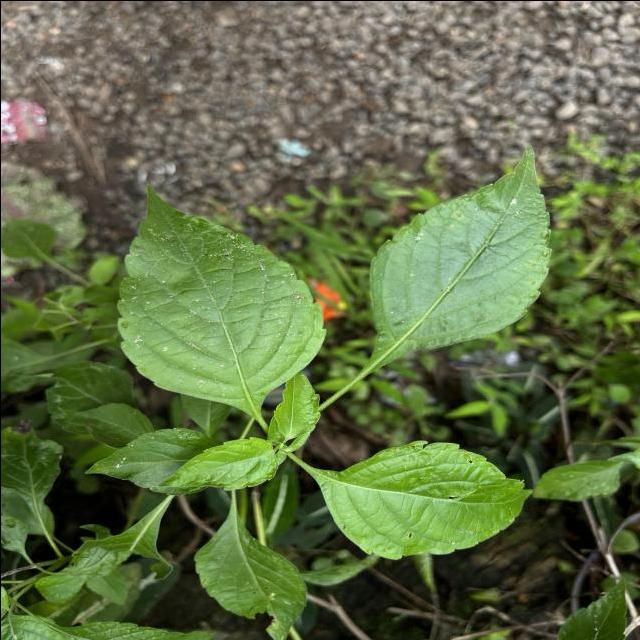Ocimum gratissimum: (111, 178, 327, 426), (343, 147, 553, 390), (292, 436, 538, 563), (186, 499, 309, 640), (152, 434, 283, 492)
